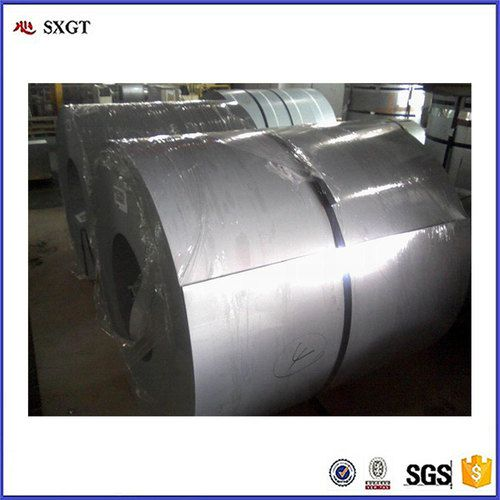steel-coil: (55, 100, 464, 415)
